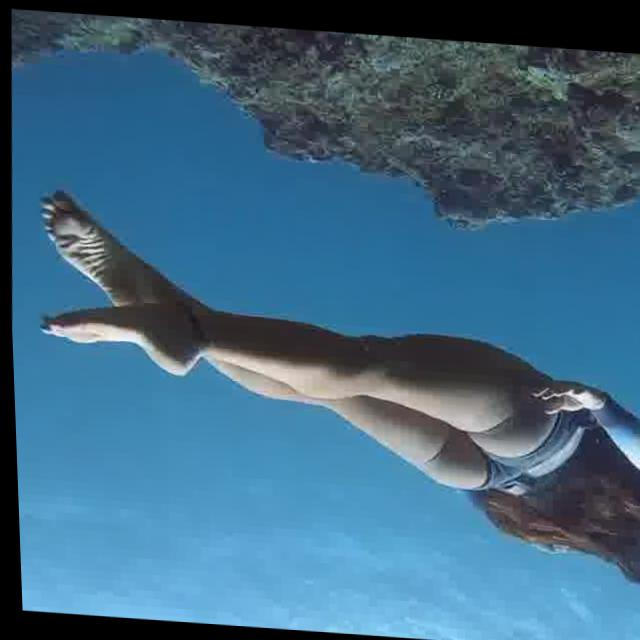human: (11, 183, 640, 599)
